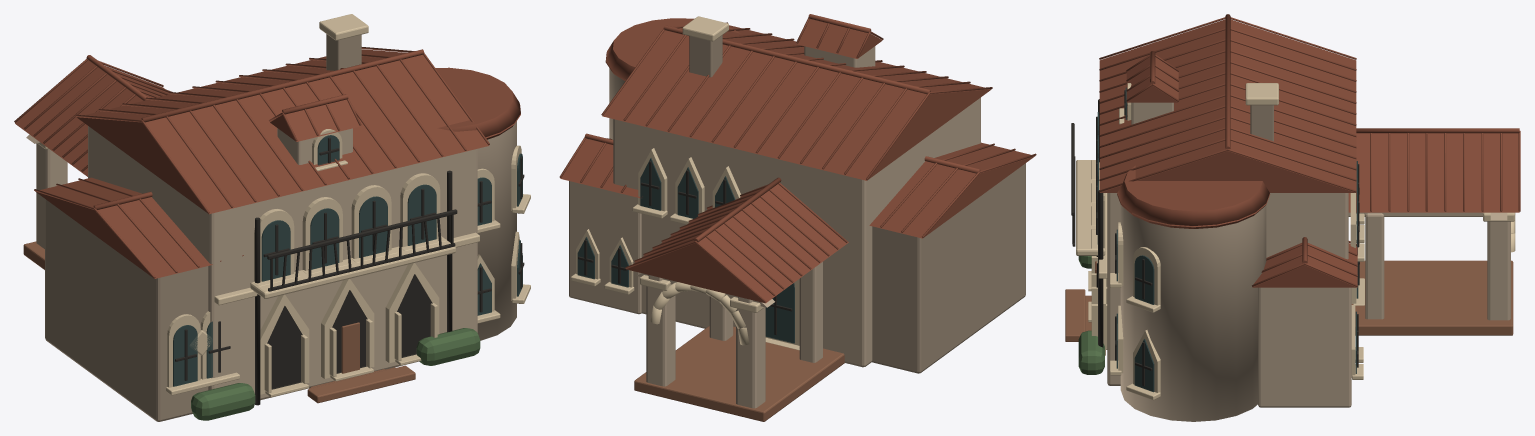
Rendered from sun-ke-villa.glb.
3 renders of one model, left to right at view 1: azimuth 30°, elevation 25°; view 2: azimuth 150°, elevation 25°; view 3: azimuth 270°, elevation 25°, orthographic. The views are drawn at different scales.
Visible parts, largest first — view 1: SunKeVilla_Runtime; view 2: SunKeVilla_Runtime; view 3: SunKeVilla_Runtime.
Boxes of the visible parts, box(x1,y1,x2,y2) form: SunKeVilla_Runtime: box(14, 14, 530, 421); SunKeVilla_Runtime: box(559, 14, 1036, 421); SunKeVilla_Runtime: box(1065, 14, 1520, 421).
Bounding box in the file's own units: 7.6 × 5.05 × 7.7.
